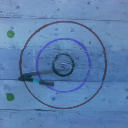Axe Tip: (18, 75, 31, 77)
